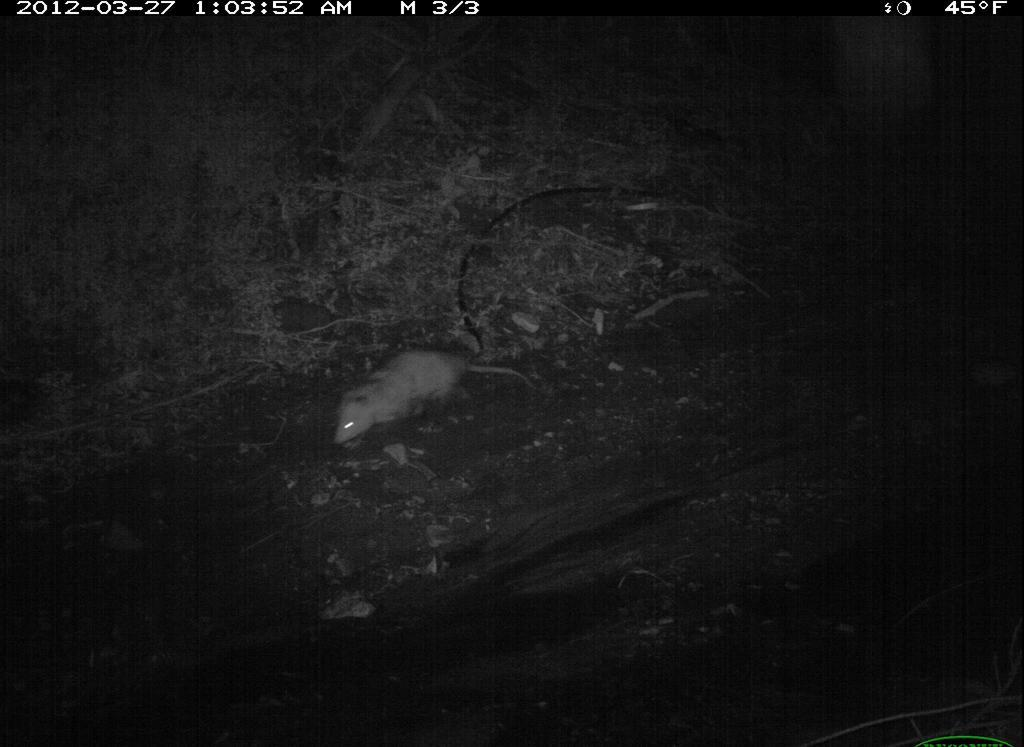opossum: (296, 341, 527, 456)
